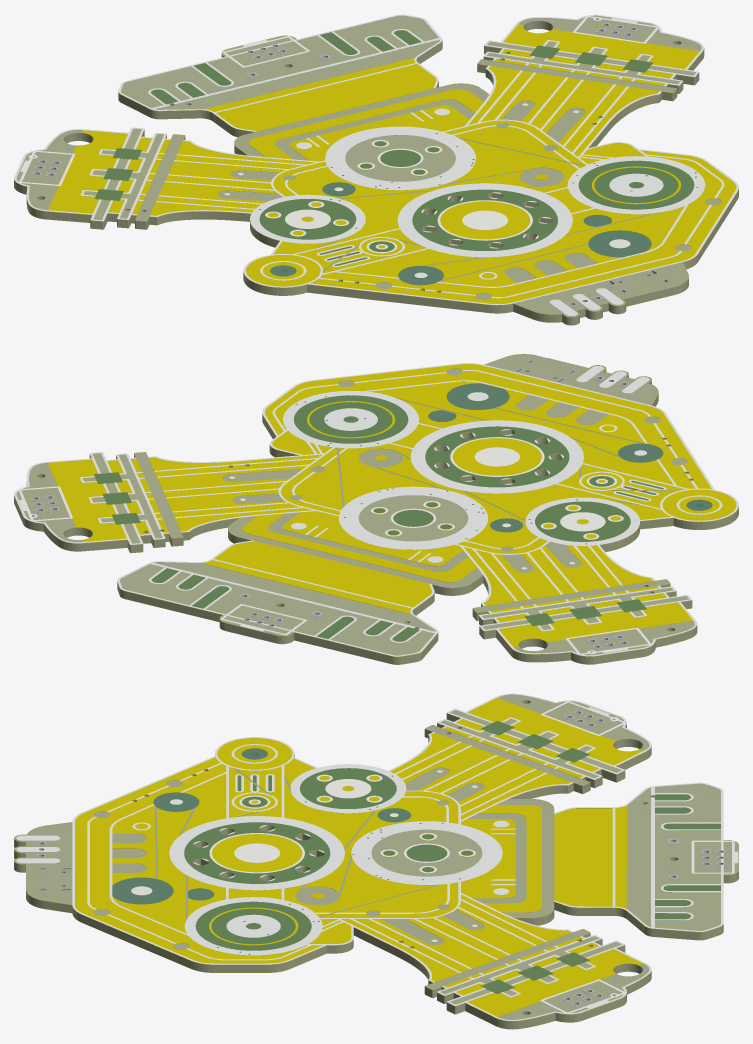
File: engine-block-badge.glb
3 views of the same model, one above another, from view 1: azimuth 30°, elevation 25°; view 2: azimuth 150°, elevation 25°; view 3: azimuth 270°, elevation 25° (orthographic).
Visible parts, largest first — view 1: =>[0:1:1:2], =>[0:1:1:9], =>[0:1:1:5], =>[0:1:1:7]; view 2: =>[0:1:1:2], =>[0:1:1:9], =>[0:1:1:5], =>[0:1:1:7]; view 3: =>[0:1:1:2], =>[0:1:1:9], =>[0:1:1:5], =>[0:1:1:7].
Part boxes in pixels (x1,y1,x2,y2): =>[0:1:1:2]: (14,22,737,325); =>[0:1:1:9]: (14,15,738,325); =>[0:1:1:5]: (14,14,738,315); =>[0:1:1:7]: (19,15,698,325); =>[0:1:1:2]: (15,354,737,664); =>[0:1:1:9]: (14,354,738,664); =>[0:1:1:5]: (14,363,738,656); =>[0:1:1:7]: (19,364,736,664); =>[0:1:1:2]: (14,698,738,1029); =>[0:1:1:9]: (14,694,738,1029); =>[0:1:1:5]: (16,693,738,1020); =>[0:1:1:7]: (14,694,729,1029).
Size of the model in its own units: 0.1373 by 0.00166 by 0.1284.
4 materials, 4 textured.
